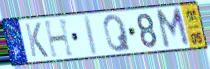8: (136, 12, 159, 49)
H: (42, 17, 76, 60)
I: (84, 14, 100, 58)
K: (23, 22, 50, 59)
M: (154, 6, 192, 51)
Q: (101, 13, 133, 53)
